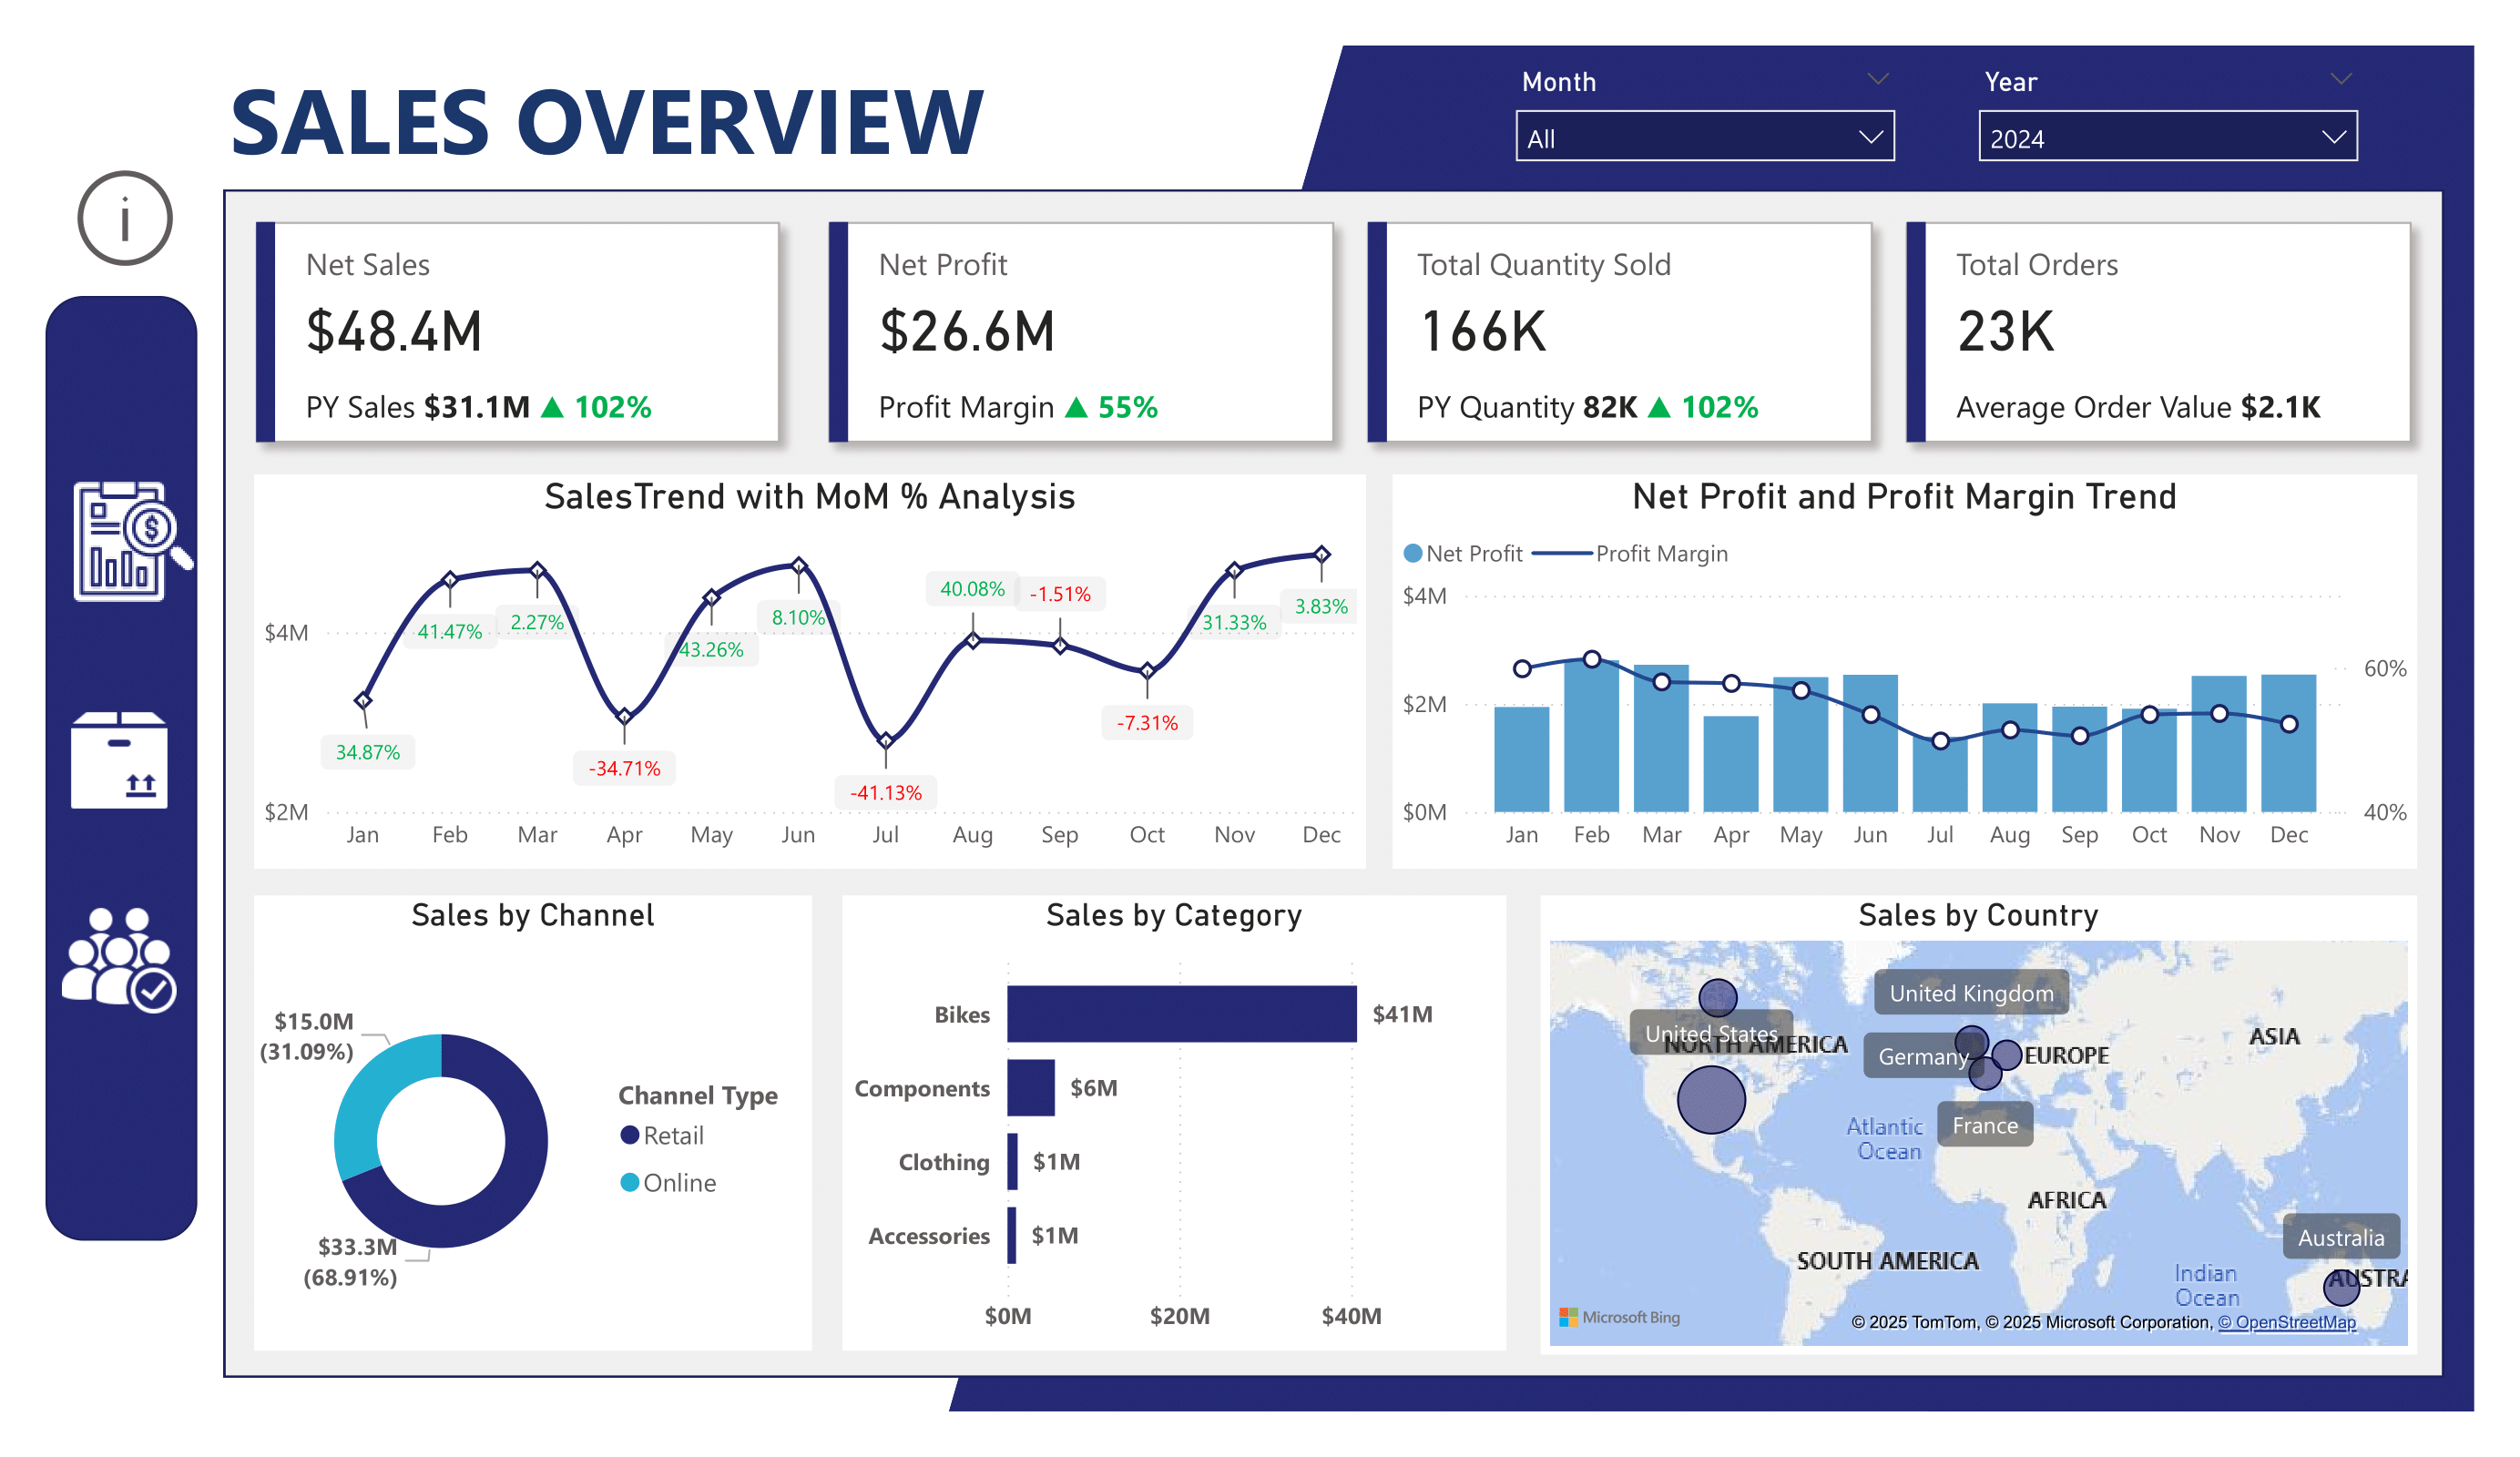

The page's visual inventory and layout, read from the dashboard file:
{"tool":"powerbi","page":{"name":"Sales Overview","canvas":[1280,720],"ordinal":0},"visuals":[{"type":"group","id":"g1","title":"Background","box":[0,0,1280,720],"z":0},{"type":"shape","box":[476,0,804,720],"z":0,"group":"g1"},{"type":"image","box":[6.2,224.1,80,75],"z":0,"group":"g2"},{"type":"shape","box":[992,0,288,720],"z":1000,"group":"g1"},{"type":"cardVisual","fields":{"Data":["_Measures.Net Sales"]},"box":[94,76,310,150],"z":1000},{"type":"image","box":[4,338,70,78],"z":1000,"group":"g2"},{"type":"cardVisual","fields":{"Data":["_Measures.Net Pofit"]},"box":[396,76,300,150],"z":2000},{"type":"shape","box":[0,132,80,498],"z":2000,"group":"g1"},{"type":"image","box":[4,428,70,104],"z":2000,"group":"g2"},{"type":"actionButton","box":[10,56,64,70],"z":3000,"group":"g2"},{"type":"shape","box":[94,76,1170,626],"z":3000,"group":"g1"},{"type":"cardVisual","fields":{"Data":["_Measures.Total Quantity"]},"box":[680,76,300,150],"z":3000},{"type":"lineChart","title":"SalesTrend with MoM % Analysis","fields":{"Category":["Date_dim.Month_Abbrv"],"Y":["_Measures.Net Sales"]},"box":[110,226,586,208],"z":4000},{"type":"lineClusteredColumnComboChart","title":"Net Profit and Profit Margin  Trend","fields":{"Category":["Date_dim.Month_Abbrv"],"Y":["_Measures.Net Profit"],"Y2":["_Measures.Profit Margin"]},"box":[710,226,540,208],"z":5000},{"type":"donutChart","title":"Sales by Channel","fields":{"Category":["Channel_dim.Channel_Type"],"Y":["_Measures.Net Sales"]},"box":[110,448,294,240],"z":6000},{"type":"map","title":"Sales by Country","fields":{"Category":["SalesTerritory_dim.SalesTerritoryCountry"],"Size":["_Measures.Net Sales"]},"box":[788,448,462,242],"z":7000},{"type":"cardVisual","fields":{"Data":["_Measures.Total Orders"]},"box":[964,76,300,150],"z":8000},{"type":"barChart","title":"Sales by Category","fields":{"Category":["Product_dim.Catgeory"],"Y":["_Measures.Net Sales"]},"box":[420,448,350,240],"z":9000},{"type":"textbox","box":[92,0,640,84],"z":10000},{"type":"group","id":"g2","title":"Buttons","box":[4,56,82.2,476],"z":11000},{"type":"slicer","title":"Year","fields":{"Values":["Date_dim.CalendarYear"]},"box":[1014,6,210,64],"z":12000},{"type":"slicer","title":"Year","fields":{"Values":["Date_dim.Month_Abbrv"]},"box":[770,6,210,64],"z":13000}]}

Visuals, with their boxes on the page's 1280x720 design canvas (x1, y1, x2, y2). These are canvas units, not pixel positions in the 2520x1457 screenshot, which may show the page scaled, cropped or inside an application window:
"Background" group: box=[0, 0, 1280, 720]
shape: box=[476, 0, 1280, 720]
image: box=[6, 224, 86, 299]
shape: box=[992, 0, 1280, 720]
cardVisual - _Measures.Net Sales: box=[94, 76, 404, 226]
image: box=[4, 338, 74, 416]
cardVisual - _Measures.Net Pofit: box=[396, 76, 696, 226]
shape: box=[0, 132, 80, 630]
image: box=[4, 428, 74, 532]
actionButton: box=[10, 56, 74, 126]
shape: box=[94, 76, 1264, 702]
cardVisual - _Measures.Total Quantity: box=[680, 76, 980, 226]
"SalesTrend with MoM % Analysis" lineChart: box=[110, 226, 696, 434]
"Net Profit and Profit Margin  Trend" lineClusteredColumnComboChart: box=[710, 226, 1250, 434]
"Sales by Channel" donutChart: box=[110, 448, 404, 688]
"Sales by Country" map: box=[788, 448, 1250, 690]
cardVisual - _Measures.Total Orders: box=[964, 76, 1264, 226]
"Sales by Category" barChart: box=[420, 448, 770, 688]
textbox: box=[92, 0, 732, 84]
"Buttons" group: box=[4, 56, 86, 532]
"Year" slicer: box=[1014, 6, 1224, 70]
"Year" slicer: box=[770, 6, 980, 70]
